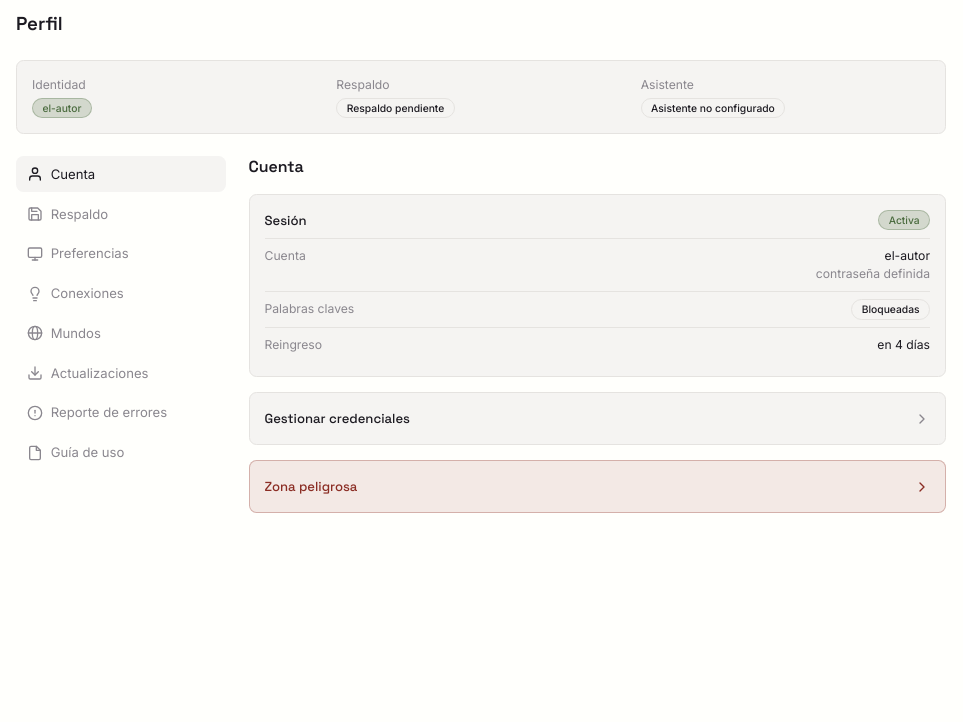
Test case: ProfilePage account section (credentials mode) › collapses 'Gestionar credenciales' by default and expands on demand
The image size is (963, 722).
expect the heading "Sesión" is shown: met, box [264,210,306,231]
expect the heading "Cambiar usuario" is not shown: met
Click the button "Gestionar credenciales" at (337, 419), box [250,393,945,444]
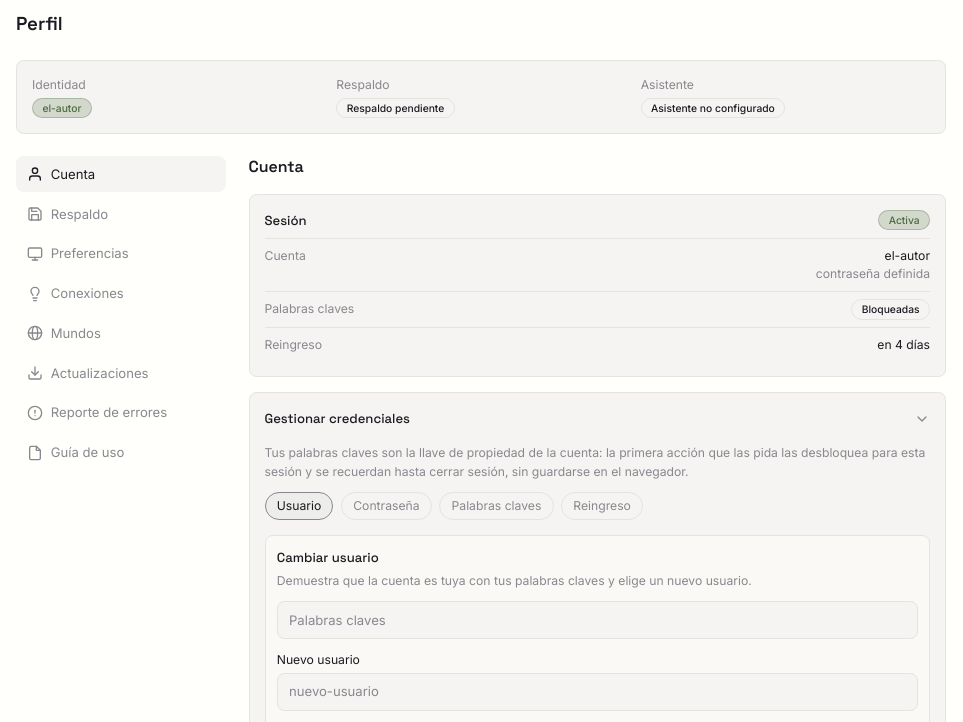
expect the button "Gestionar credenciales" is expanded: met, box [250,393,945,444]
expect the heading "Cambiar usuario" is shown: met, box [277,549,379,566]
